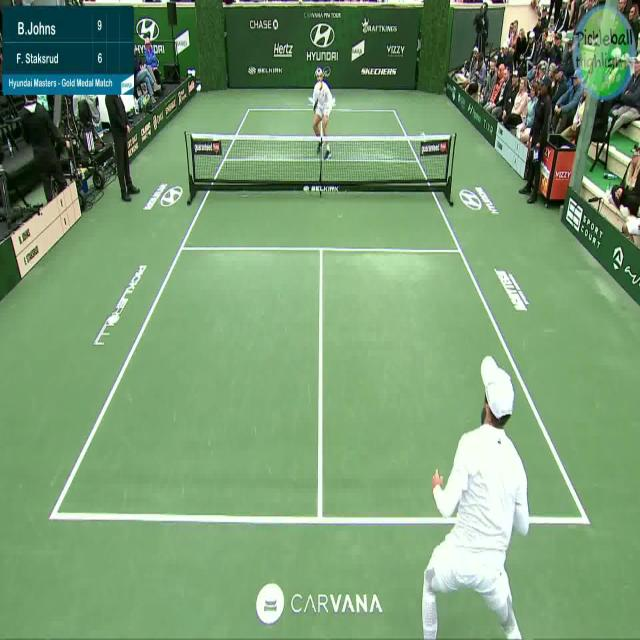Court: (51, 105, 587, 521)
